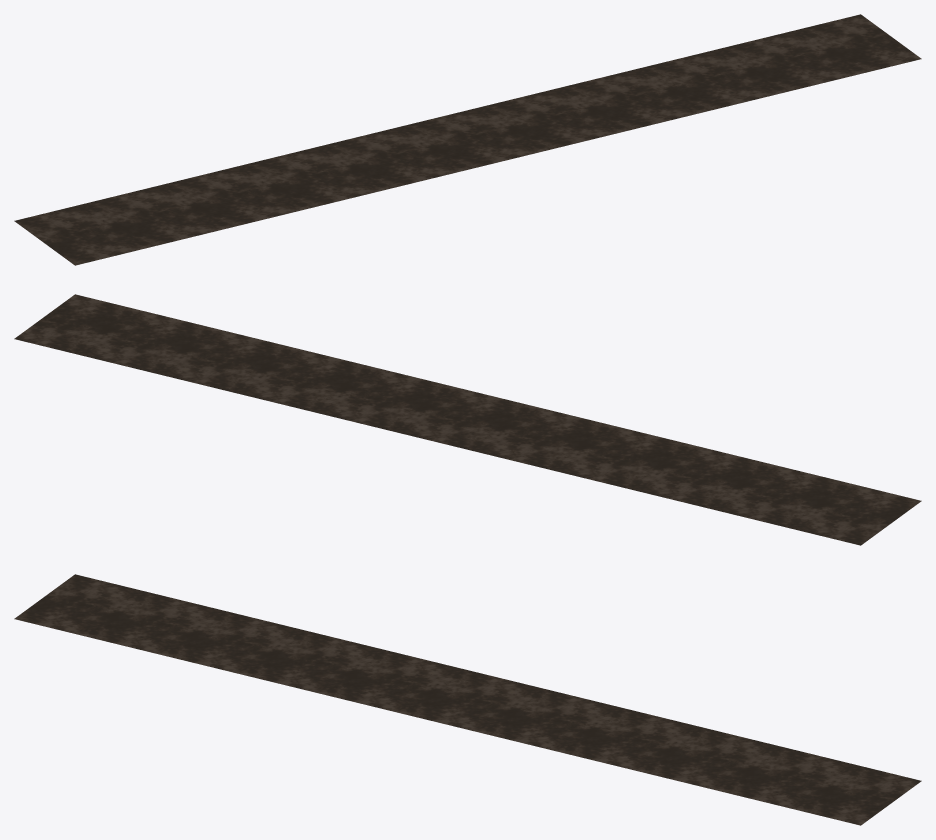
Rendered from floor_2_-4.glb.
3 views of the same model, one above another, from view 1: azimuth 30°, elevation 25°; view 2: azimuth 150°, elevation 25°; view 3: azimuth 330°, elevation 25° (orthographic).
Visible parts, largest first — view 1: floor_2_-4; view 2: floor_2_-4; view 3: floor_2_-4.
Part boxes in pixels (left/top/right/bottom): floor_2_-4: left=14, top=14, right=921, bottom=265; floor_2_-4: left=14, top=294, right=921, bottom=545; floor_2_-4: left=14, top=574, right=921, bottom=825.
Size of the model in its own units: 64 by 0 by 8.
Materials: 1 (1 with a texture image).
